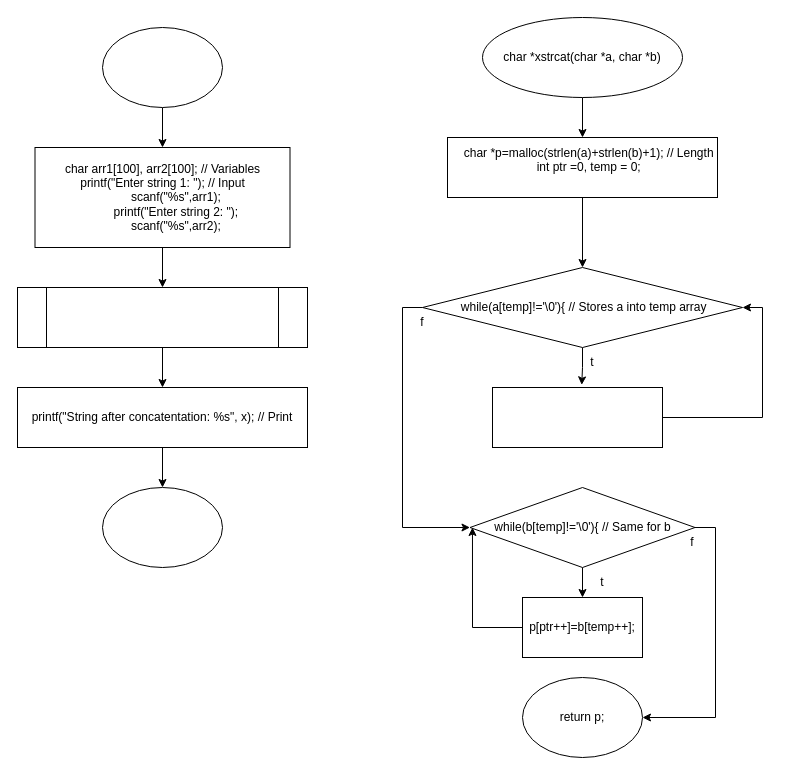
The diagram is 788 pixels wide and 775 high, and some of its shapes have lost their labels. The shapes that lost their labels are listed below. From the top down, each one's centre as x and y in pixels, then its label:
the point at 162,67: Start
the point at 162,317: char *x = xstrcat(arr1, arr2); // Function
the point at 577,417: p[ptr++] = a[temp++];
the point at 162,527: End
